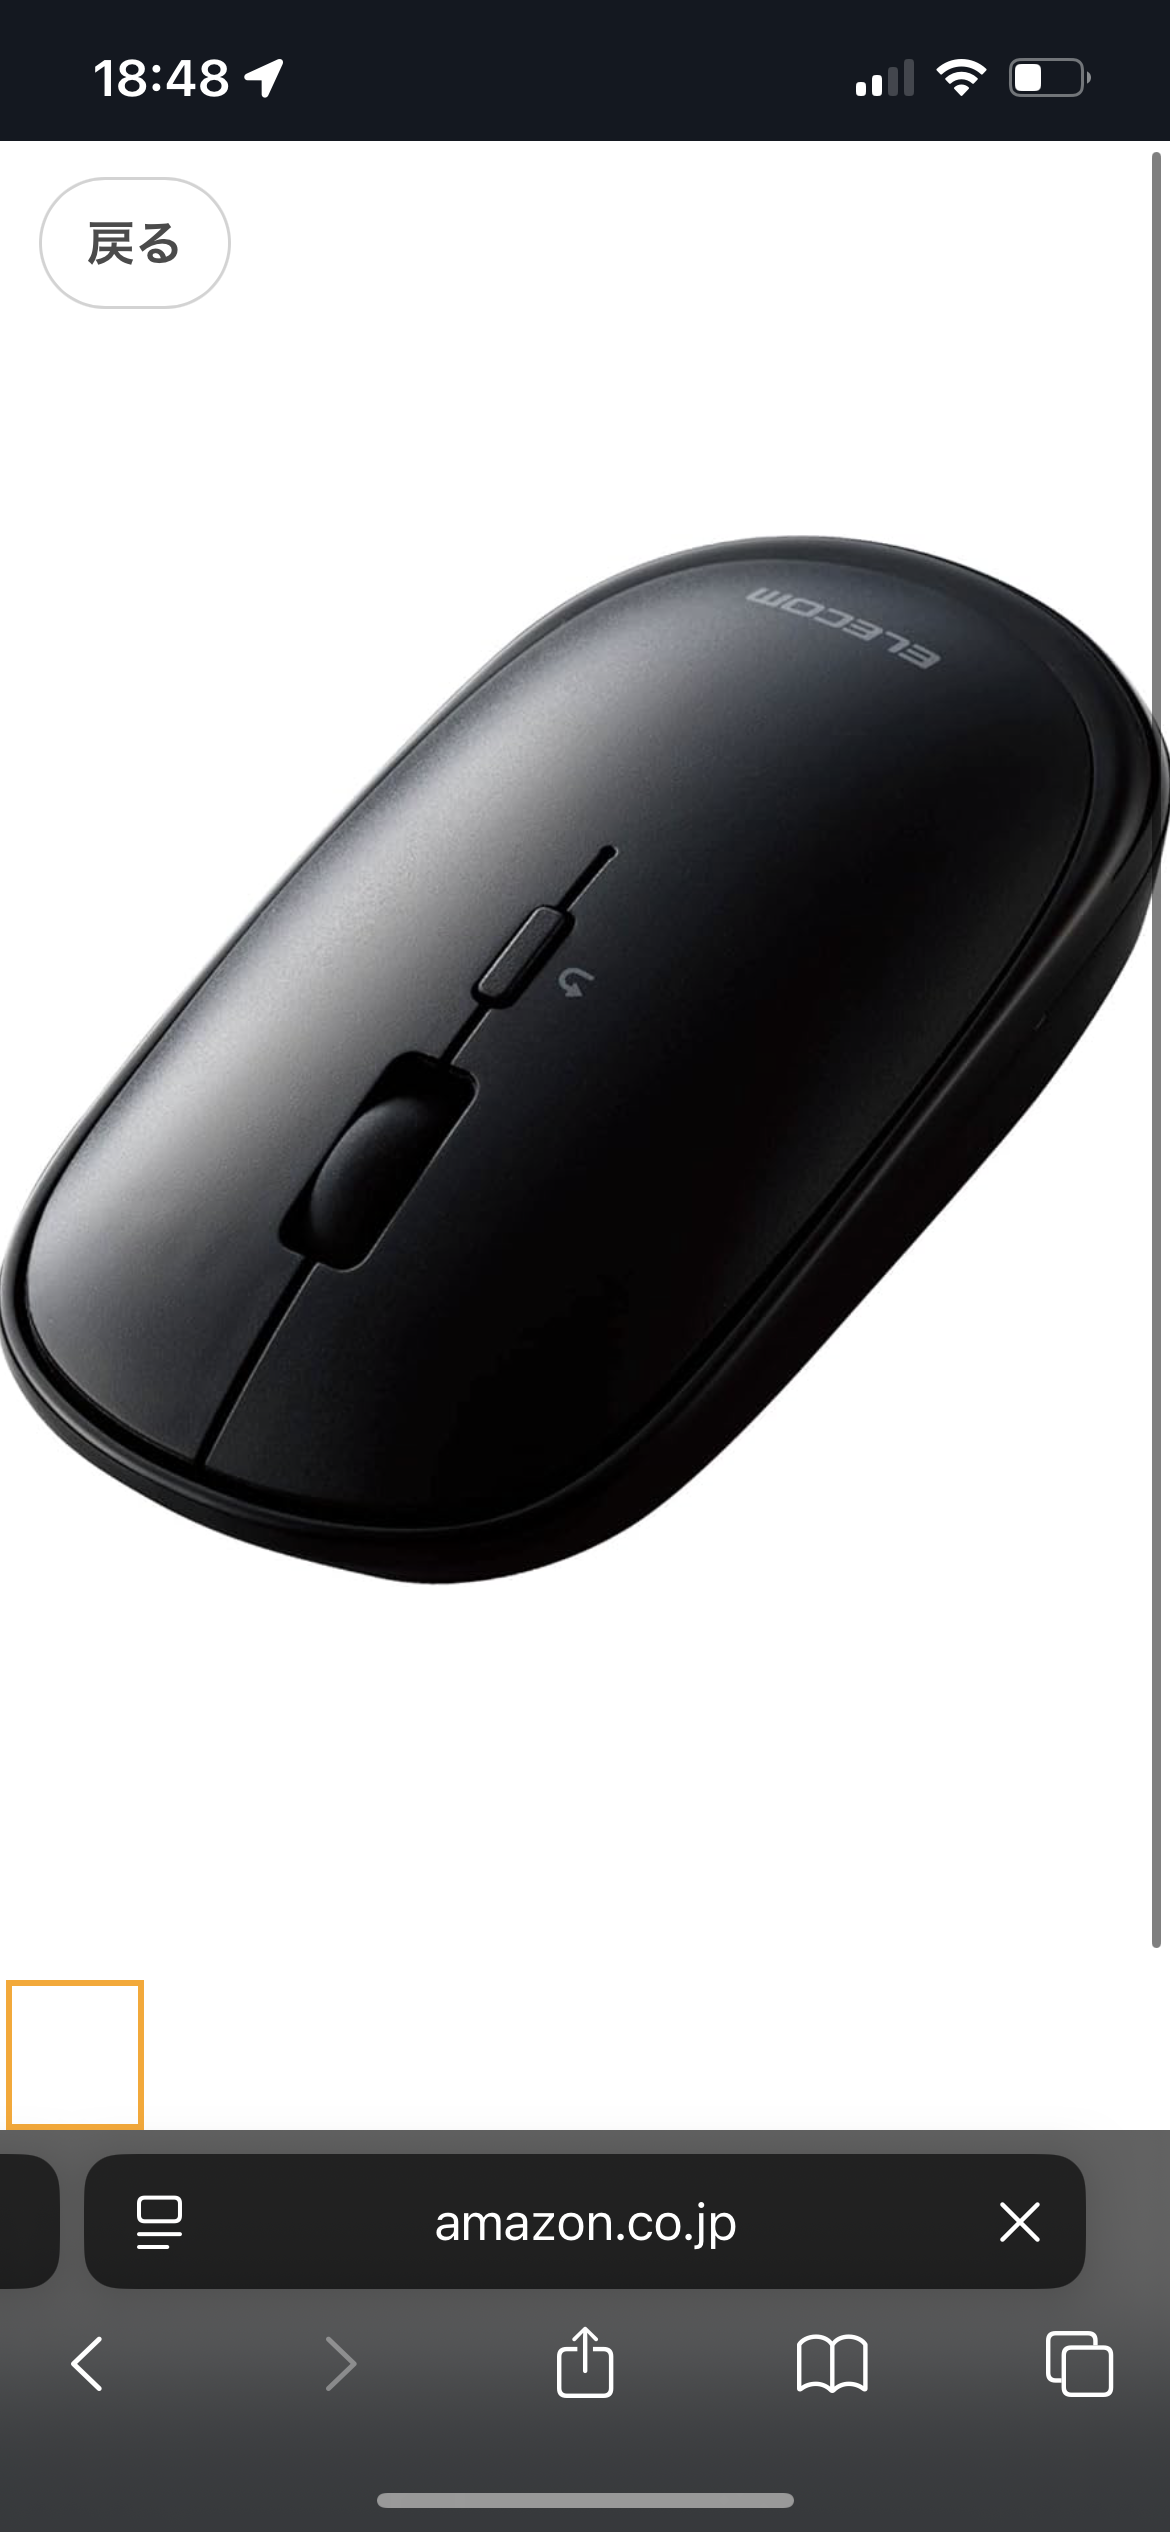mouse: (494, 507, 673, 1562)
